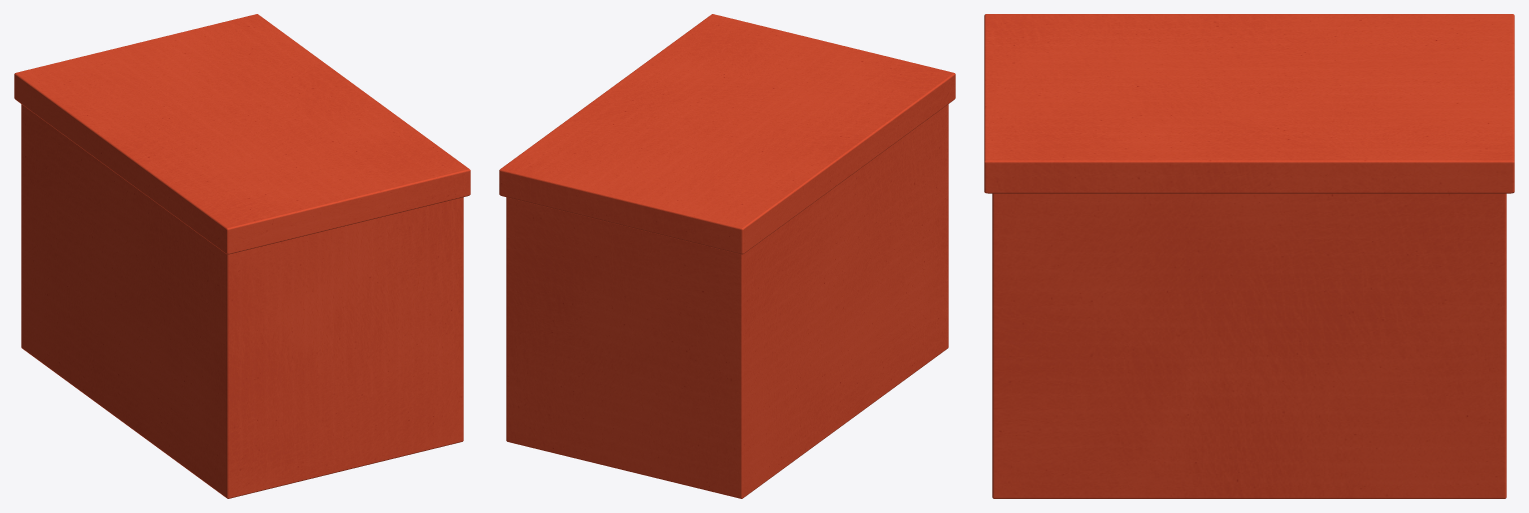
File: red_box.obj
3 renders of one model, left to right at view 1: azimuth 30°, elevation 25°; view 2: azimuth 150°, elevation 25°; view 3: azimuth 270°, elevation 25°, orthographic. The views are drawn at different scales.
Parts seen in each view (by area): view 1: o_Storagebox_Box_blue_0; view 2: o_Storagebox_Box_blue_0; view 3: o_Storagebox_Box_blue_0.
Part boxes in pixels (left/top/right/bottom): o_Storagebox_Box_blue_0: left=14, top=14, right=470, bottom=498; o_Storagebox_Box_blue_0: left=499, top=14, right=955, bottom=498; o_Storagebox_Box_blue_0: left=984, top=14, right=1514, bottom=498.
Size of the model in its own units: 25.73 by 27.61 by 38.96.
1 material, 1 textured.
